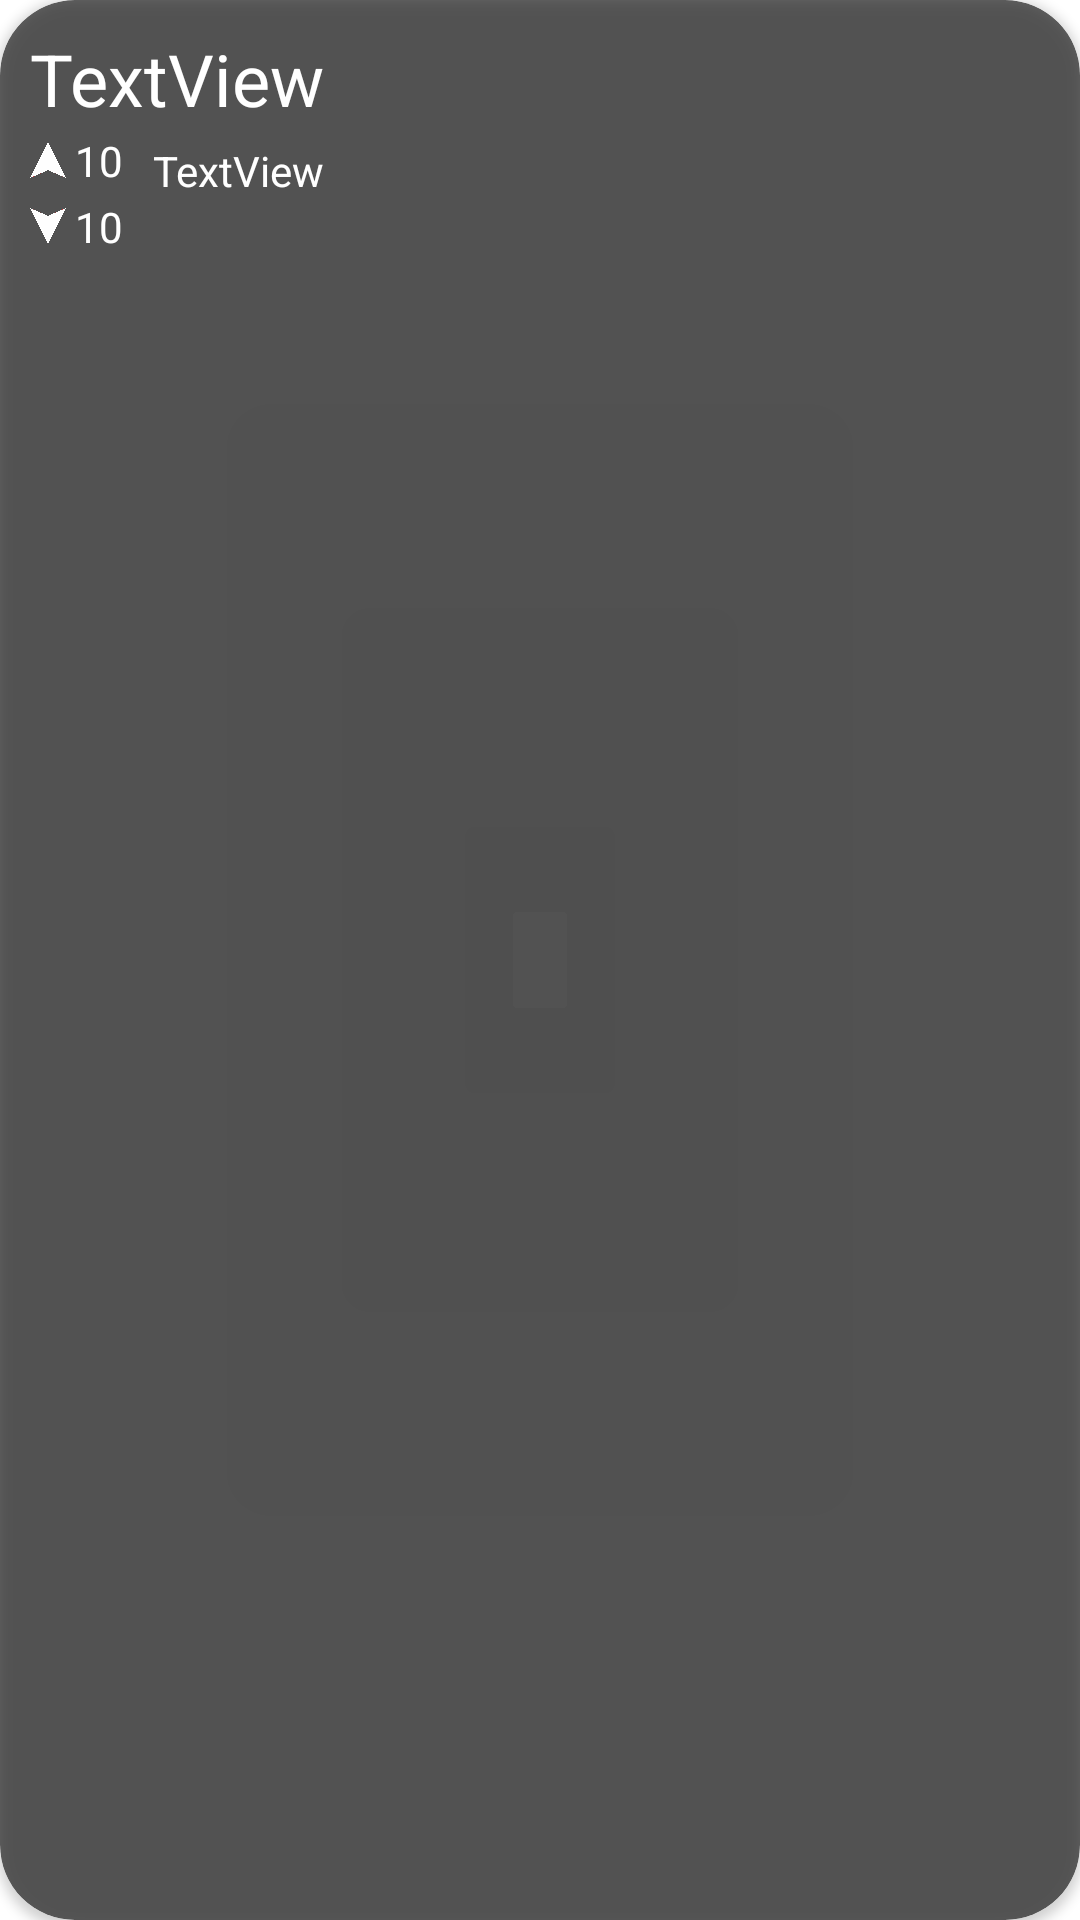

Icons on this 1080*1920 Android screen, each with the point to tap as point (x, y):
neutral negative: point (48, 225)
neutral positive: point (48, 160)
